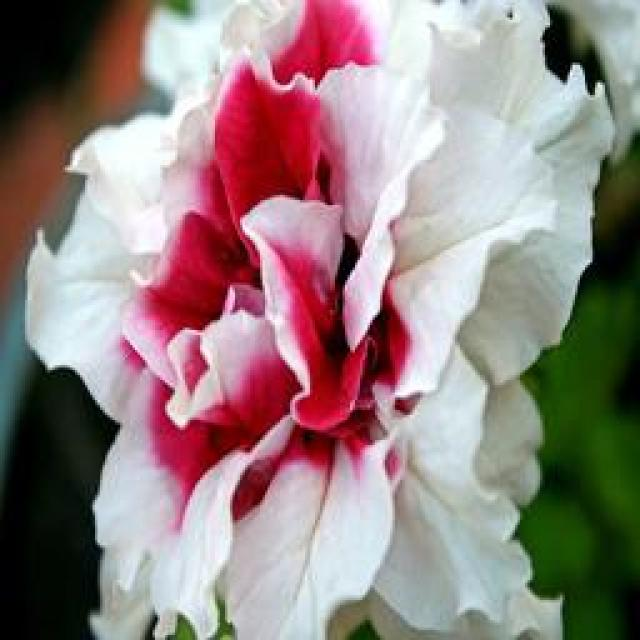carnation: (34, 0, 592, 640)
